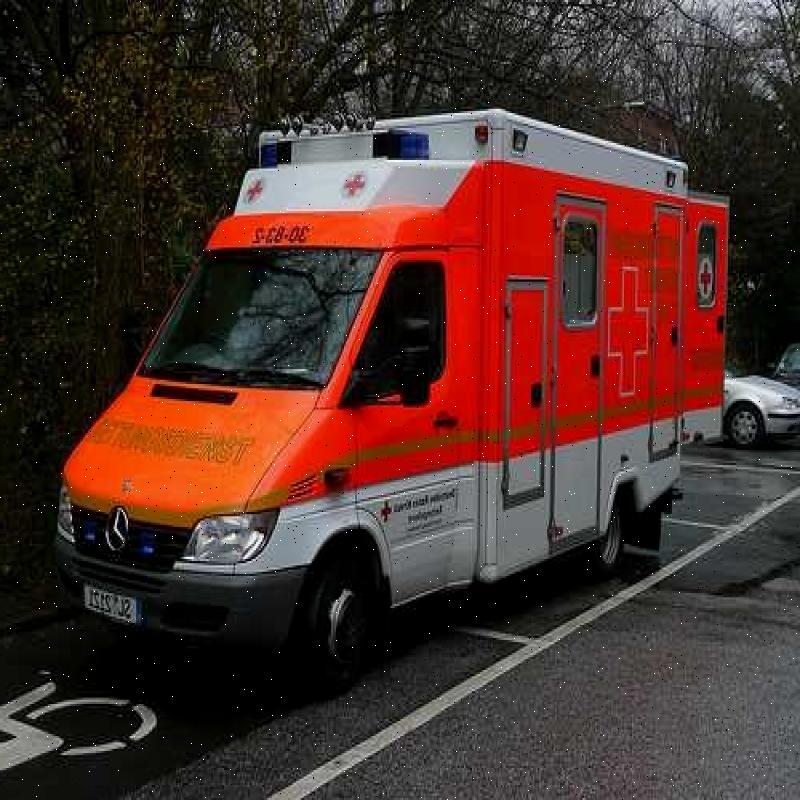AmbulanceSiren: (240, 121, 441, 178)
